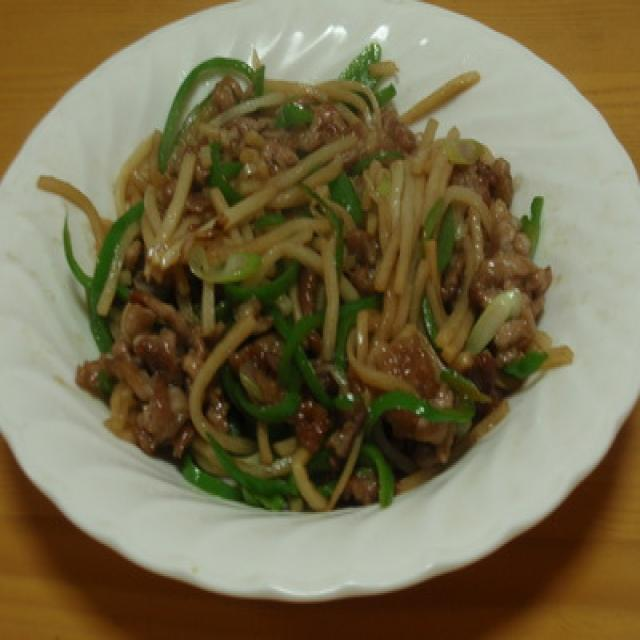牛肉菜式: (0, 0, 640, 608)
